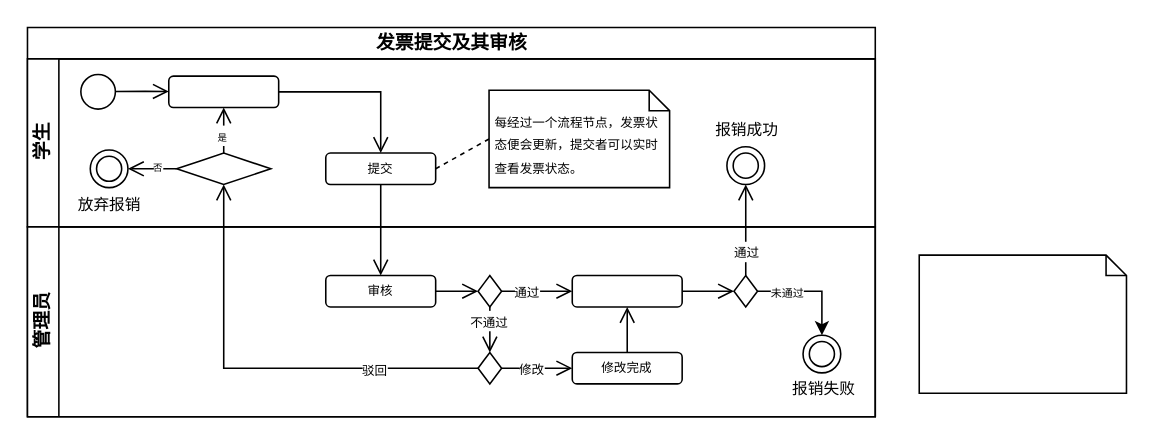
This 1154x444 diagram has some shape labels left out. Here are the shapes that lost their labels. From the top down, the centre of each, then its label:
At (223,91): "填写发票信息".
At (223,168): "是否更改".
At (626,290): "送报".
At (1022,323): "送报后的流程为校方固定流程，不属于本项目业务范围。 故发票已送报和最终报销结果需要管理员手动更新发票状态（提供批量更新方法）。".
